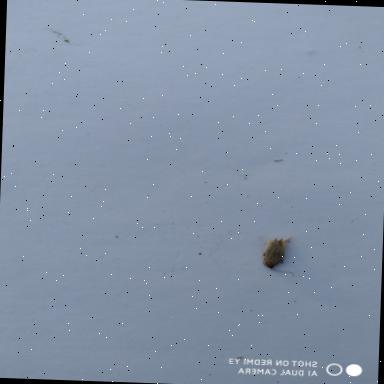pbw: (261, 234, 298, 276)
